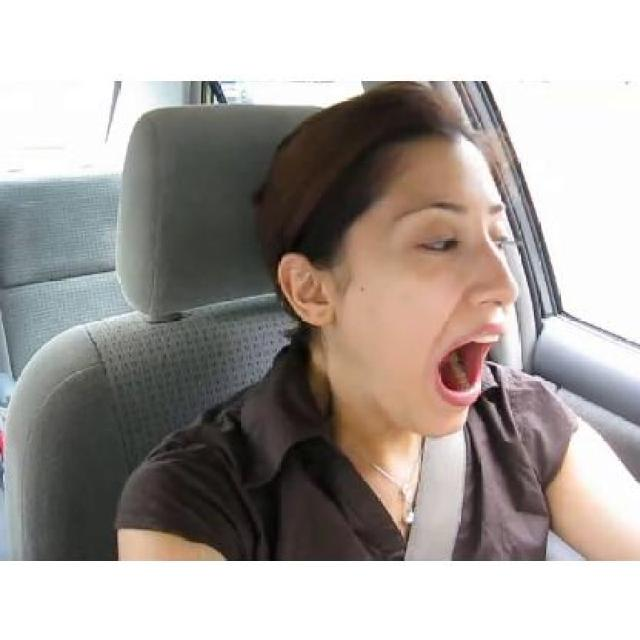inattentif: (255, 87, 518, 442)
